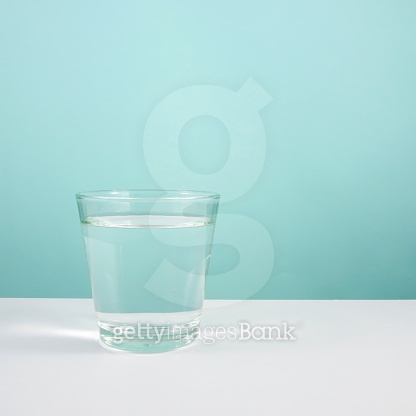glass of water: (68, 185, 224, 357)
